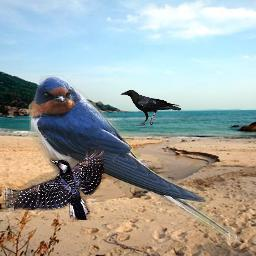Crow: (120, 89, 181, 126)
Swallow: (27, 75, 239, 243)
Woodpecker: (3, 146, 104, 220)
